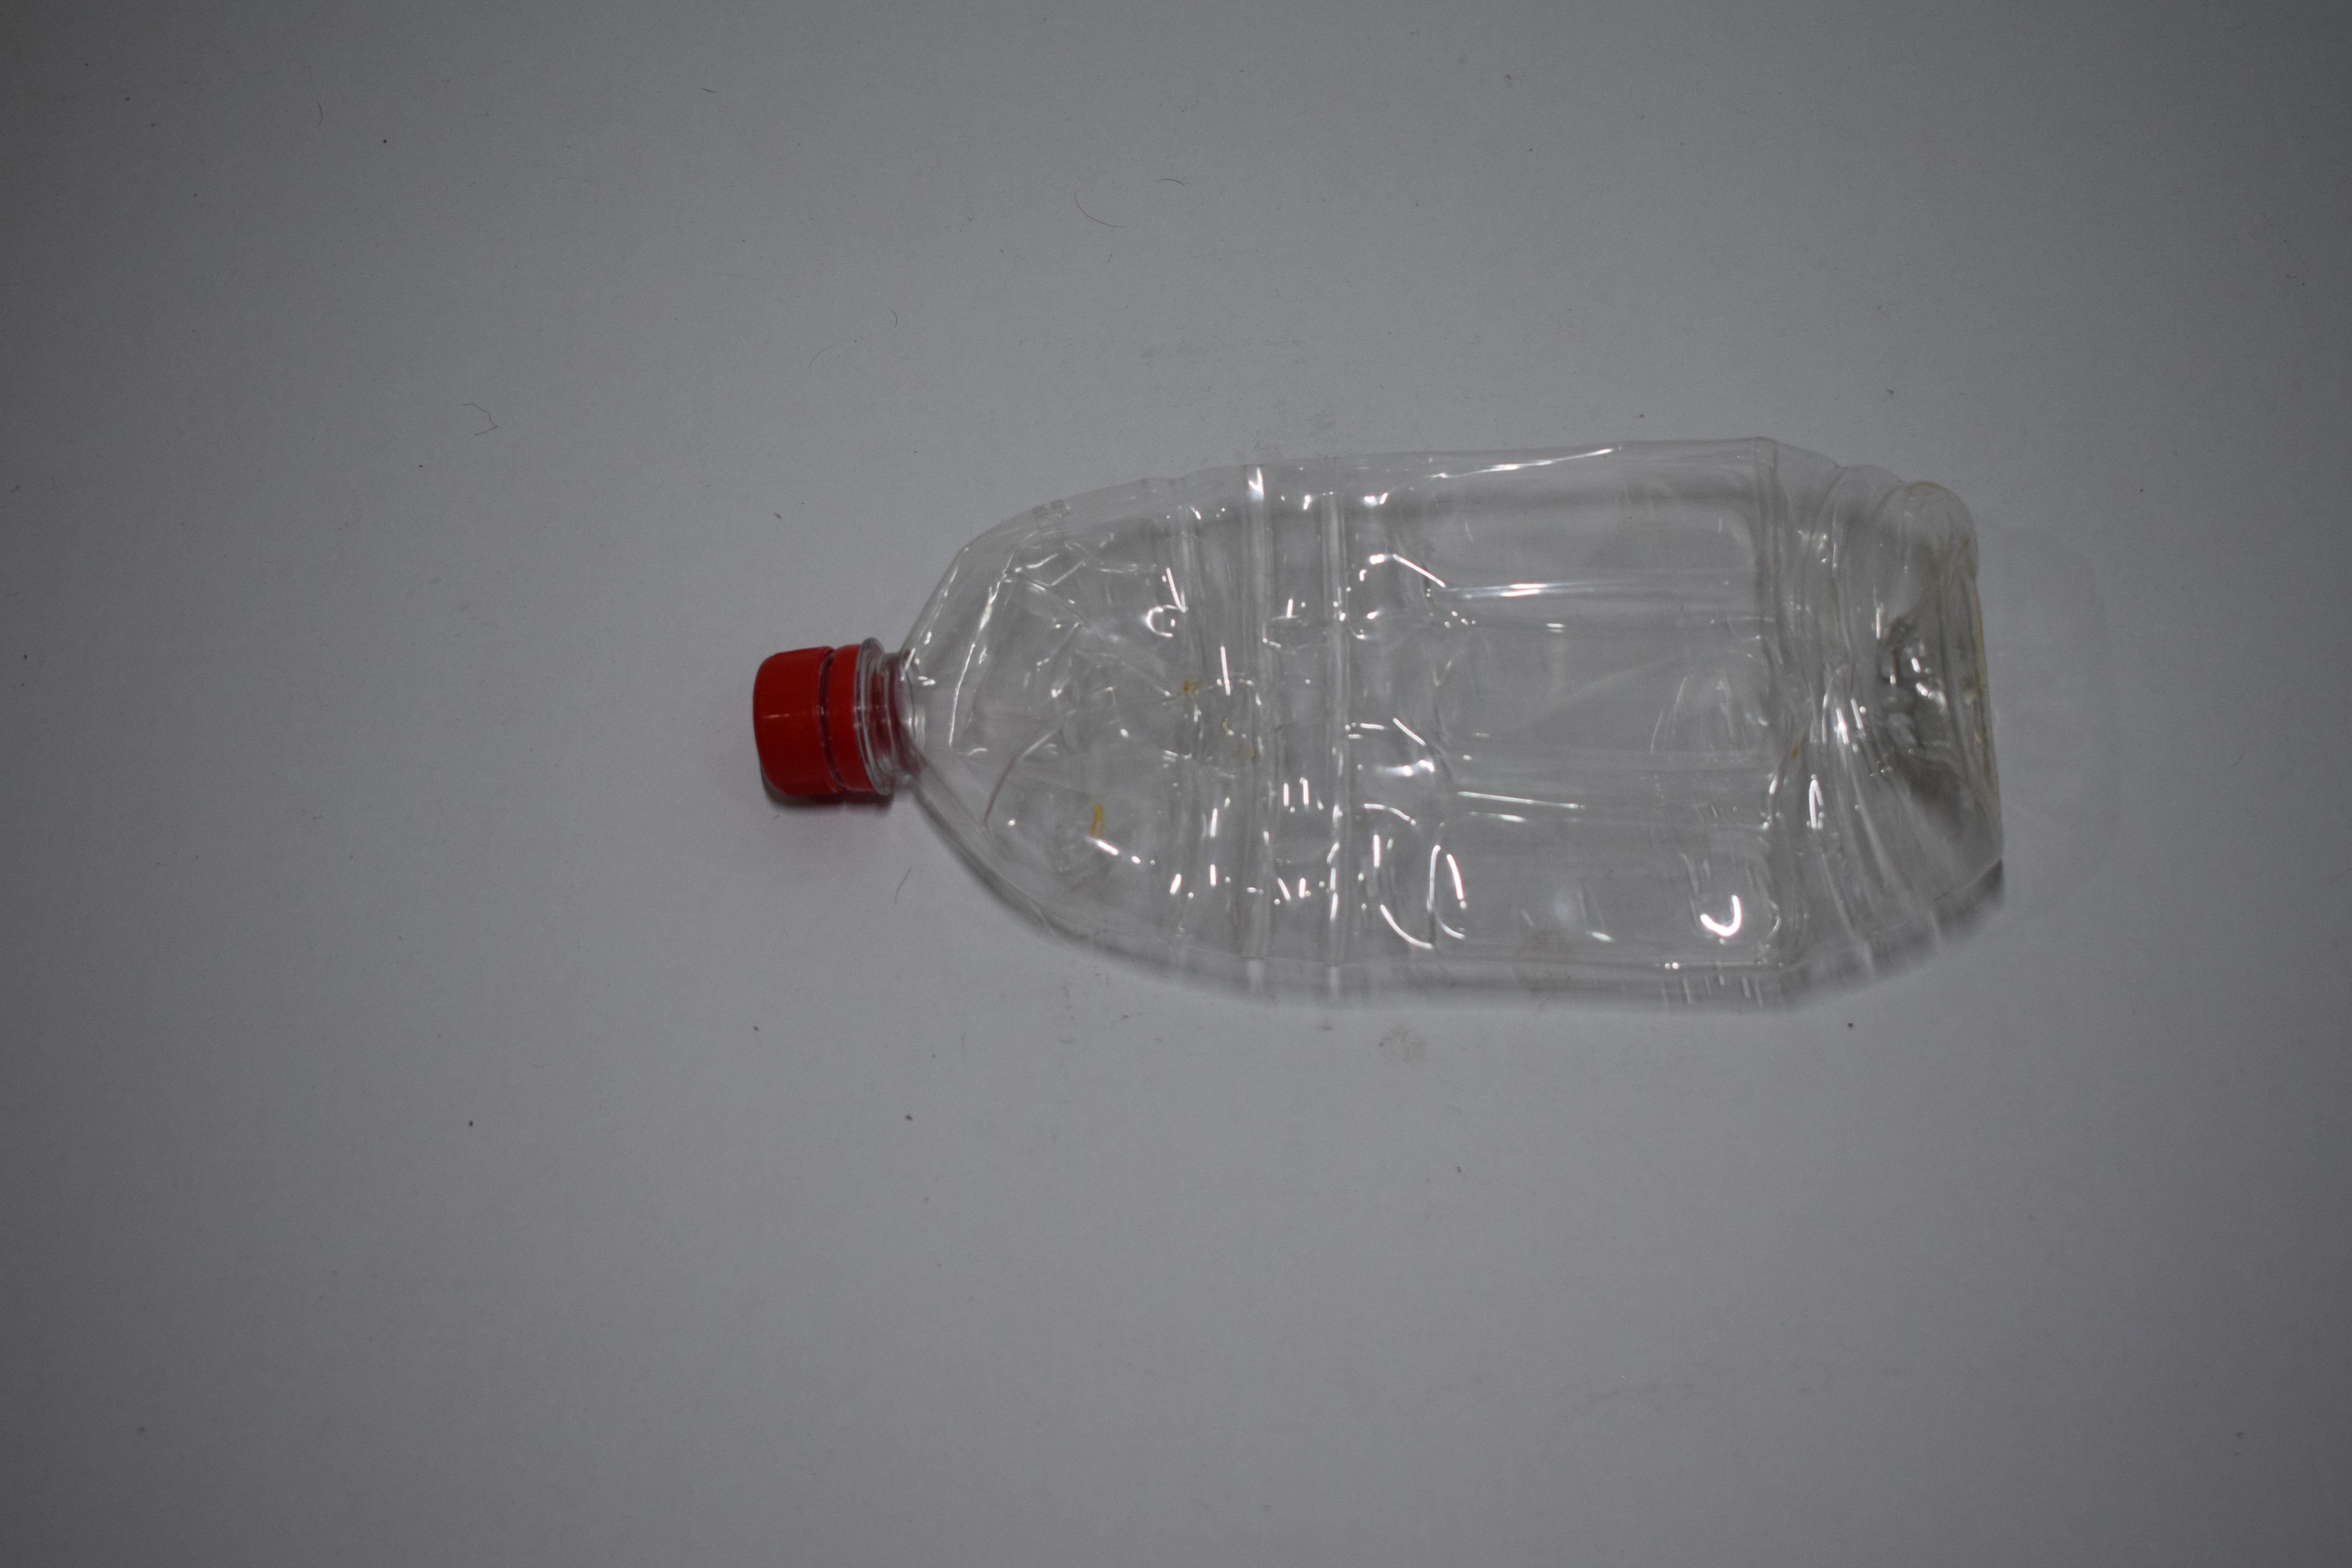bottle: (161, 338, 247, 917)
